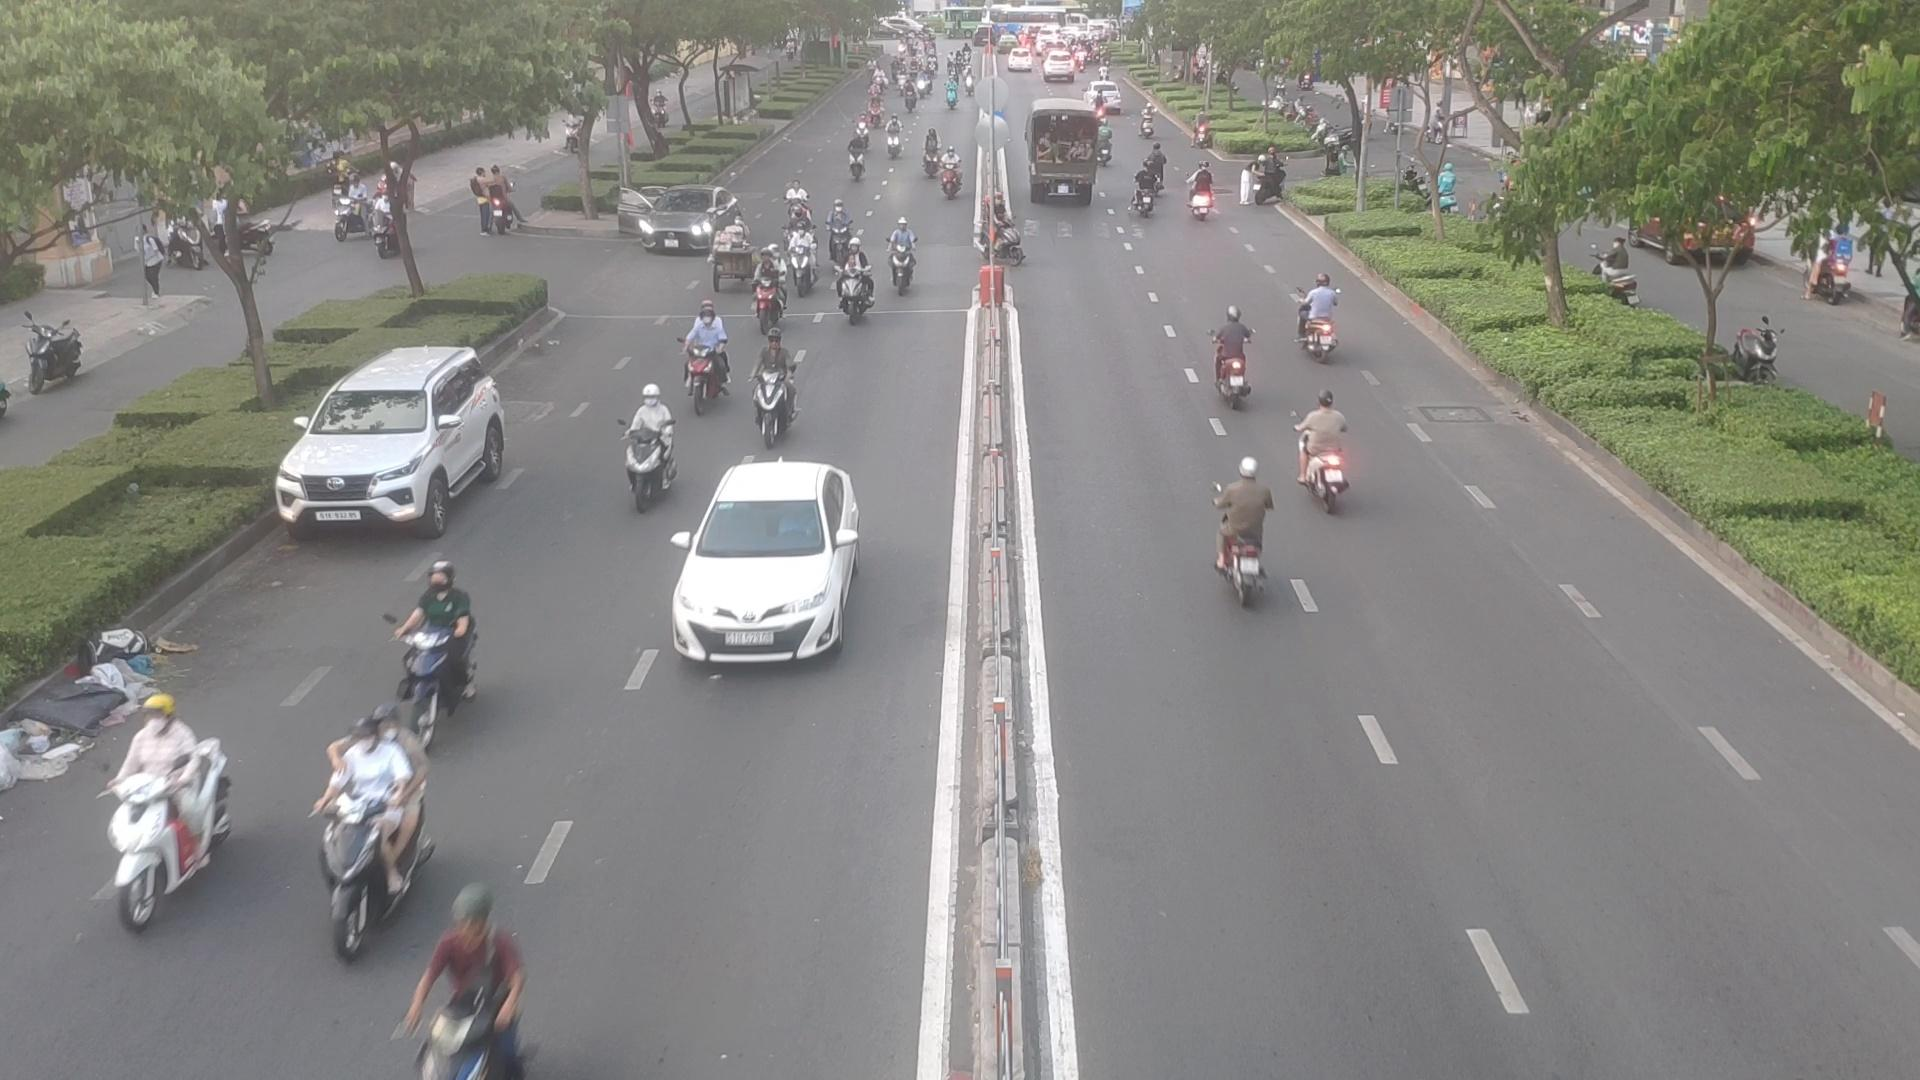car: (280, 344, 520, 529), (655, 465, 862, 667), (615, 191, 736, 258)
motorbike: (99, 705, 241, 923), (386, 911, 524, 1080), (322, 756, 433, 949), (396, 580, 483, 711), (326, 713, 433, 818), (1211, 465, 1283, 600), (65, 626, 158, 724), (1292, 398, 1361, 508), (617, 396, 680, 497), (748, 334, 804, 429), (1209, 313, 1261, 404), (683, 306, 735, 396), (1298, 276, 1352, 356), (884, 222, 920, 294), (836, 265, 881, 324), (825, 203, 862, 257), (1131, 167, 1164, 219), (938, 152, 967, 200), (845, 142, 872, 186)
